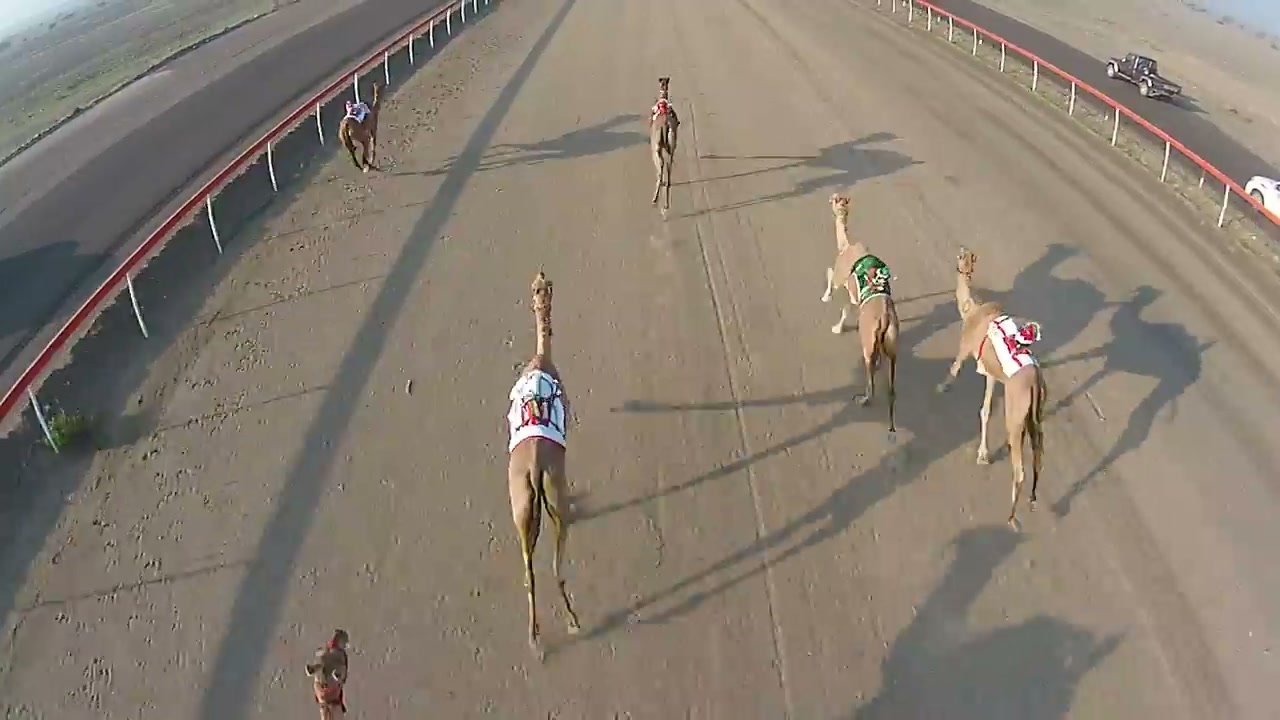animal_foot_print: (24, 173, 362, 715)
